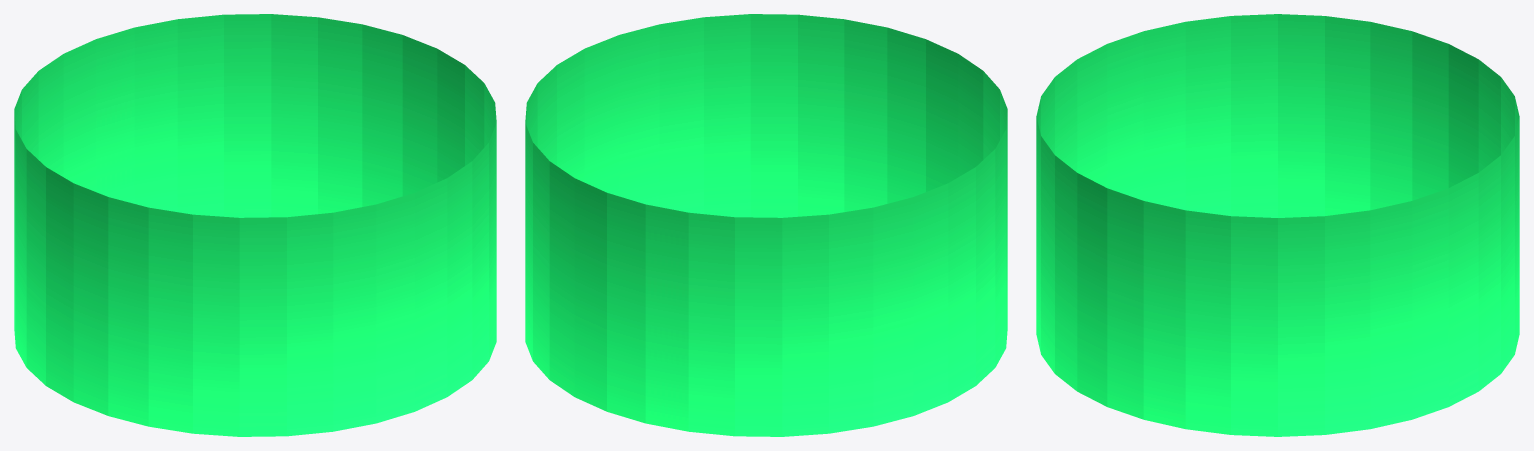
File: lb_beam_3.glb
3 renders of one model, left to right at view 1: azimuth 30°, elevation 25°; view 2: azimuth 150°, elevation 25°; view 3: azimuth 270°, elevation 25°, orthographic.
Visible parts, largest first — view 1: lb_beam_3; view 2: lb_beam_3; view 3: lb_beam_3.
Part boxes in pixels (x1,y1,x2,y2): lb_beam_3: (14,14,496,436); lb_beam_3: (525,14,1007,436); lb_beam_3: (1036,14,1519,436).
Size of the model in its own units: 2 by 1 by 2.
1 material, 1 textured.
